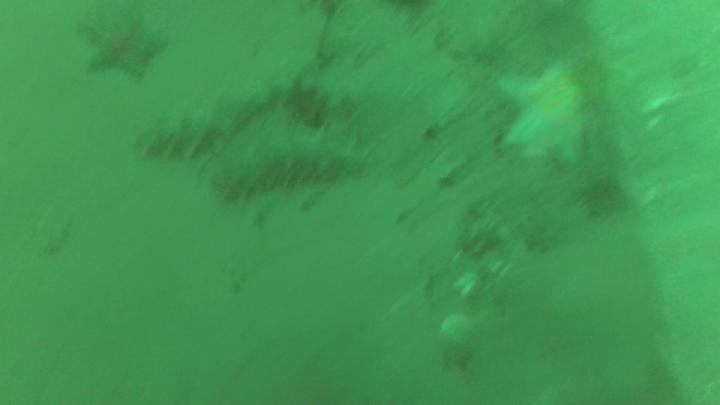holothurian: (217, 134, 362, 201), (139, 88, 266, 152)
starfish: (501, 62, 600, 164), (80, 19, 164, 78)
